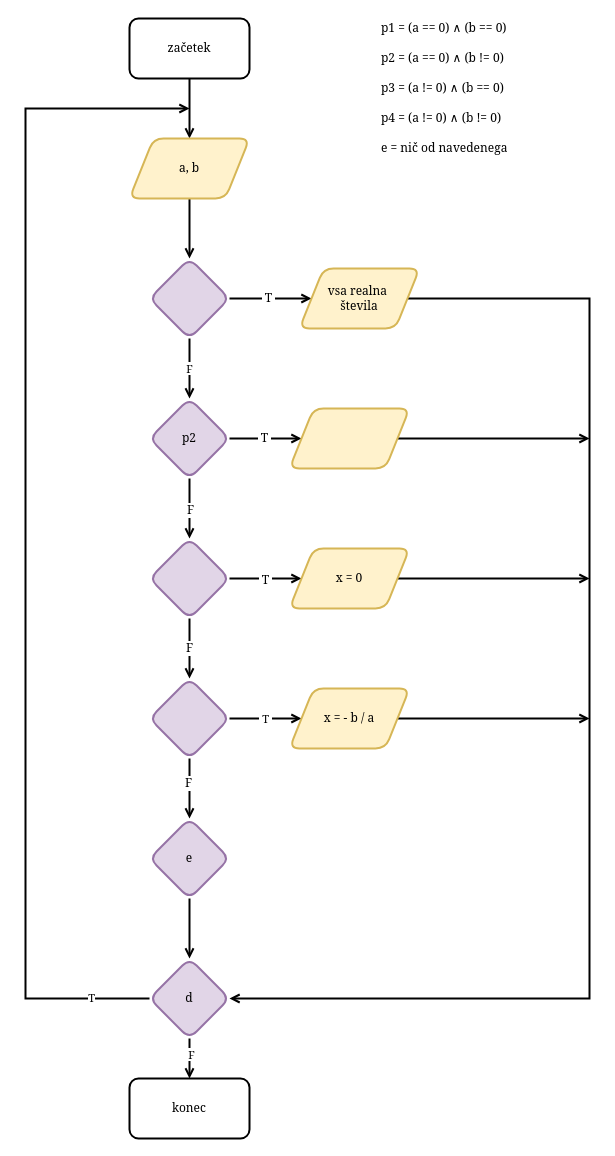
Image size: 615x1156. Some labels were removed from this diagram. Here are the shapes that lost their labels. From the top down, the centre of each, then its label:
(x=189, y=298): p1
(x=349, y=438): prazna množica
(x=189, y=578): p3
(x=189, y=718): p4
